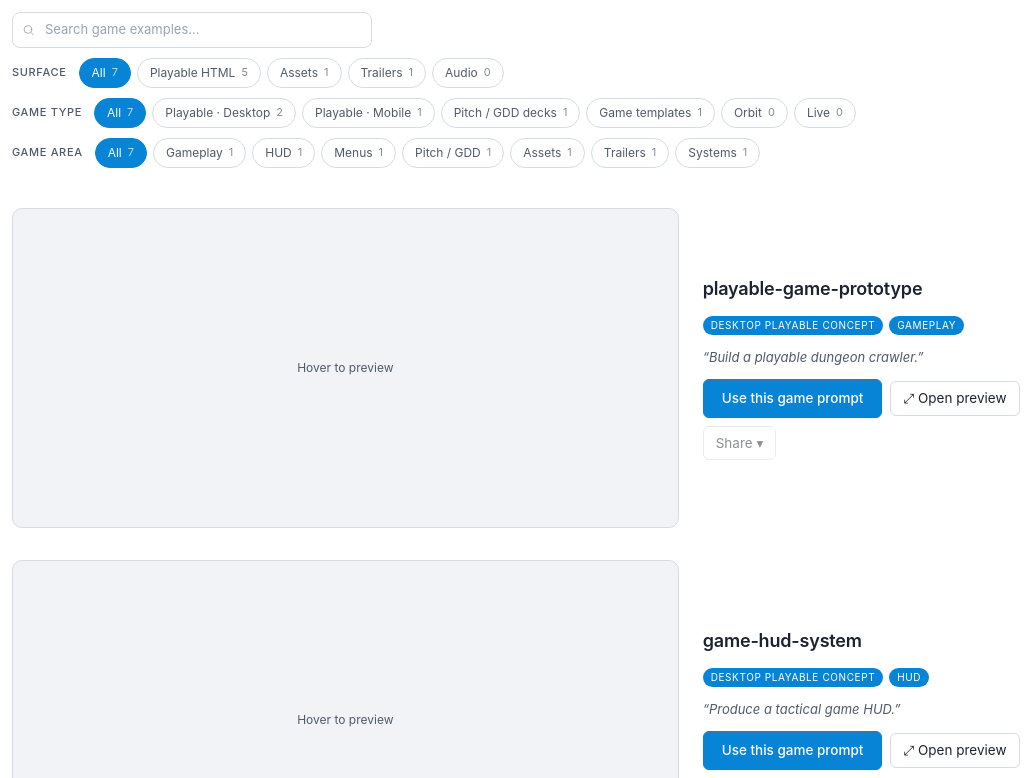
ExamplesTab › narrows by surface, type, and scenario filter pills
Click the tab named "Assets1" at (304, 72), box [267,58,342,88]
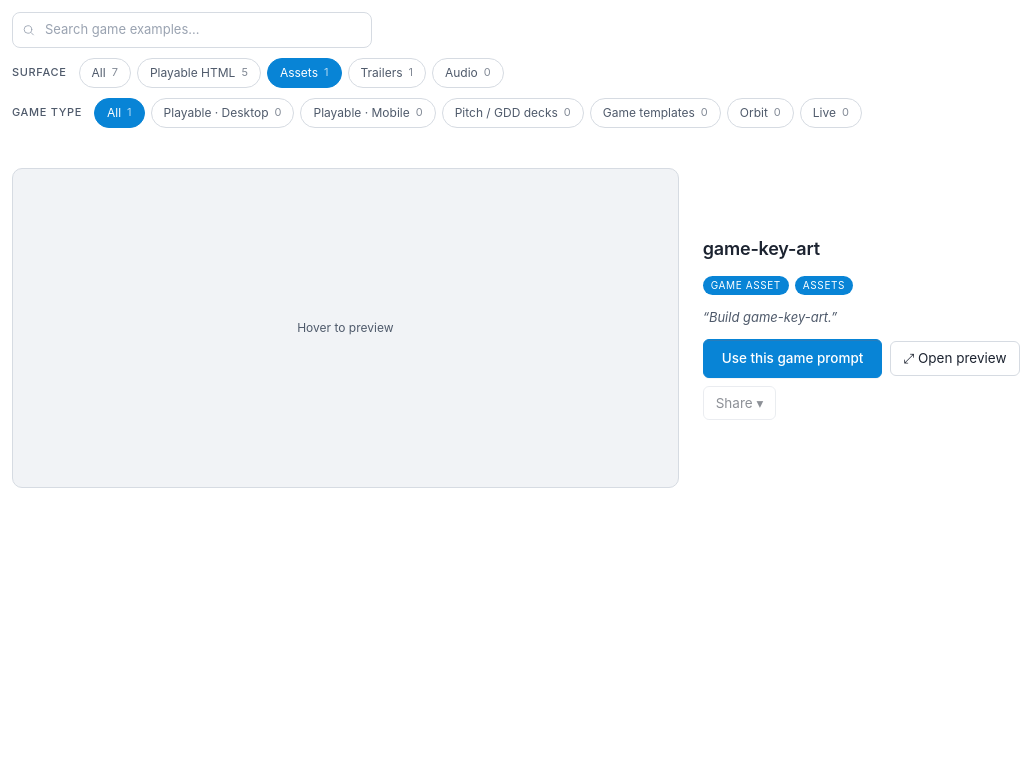
Expected: the element with test id "example-card-game-key-art" is shown, [12,168,1035,488]
Expected: the element with test id "example-card-playable-game-prototype" is gone
Click the tab named "All7" at (105, 72), box [79,58,131,88]
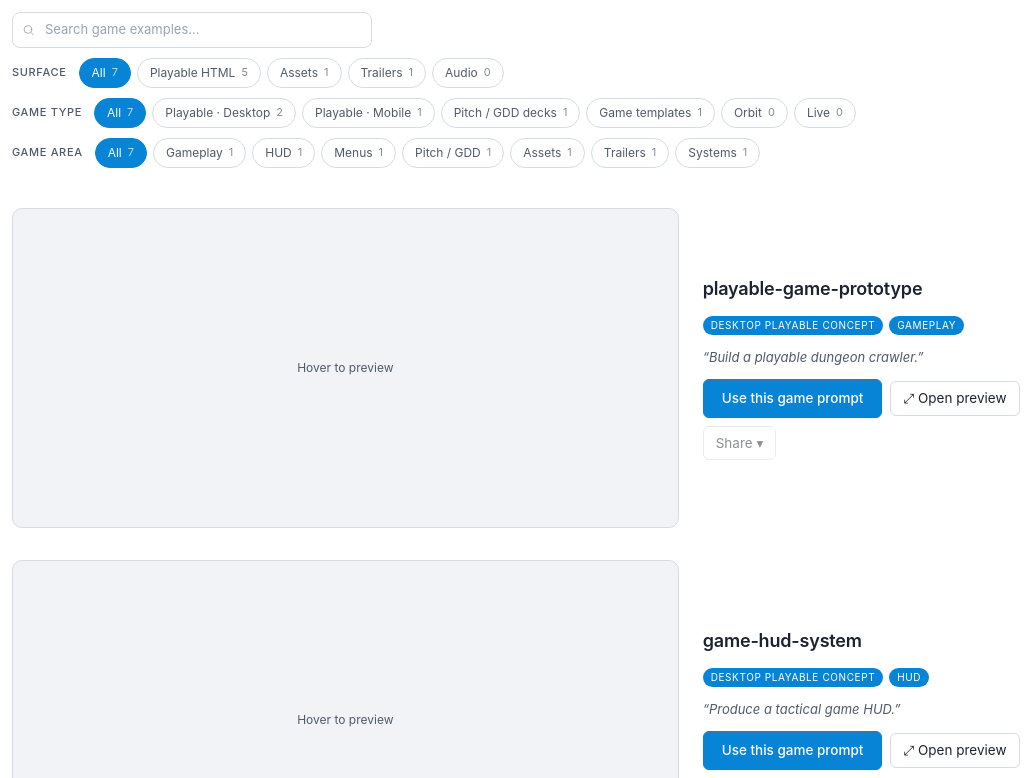
Click the tab named "Playable · Mobile1" at (368, 112), box [302,98,435,128]
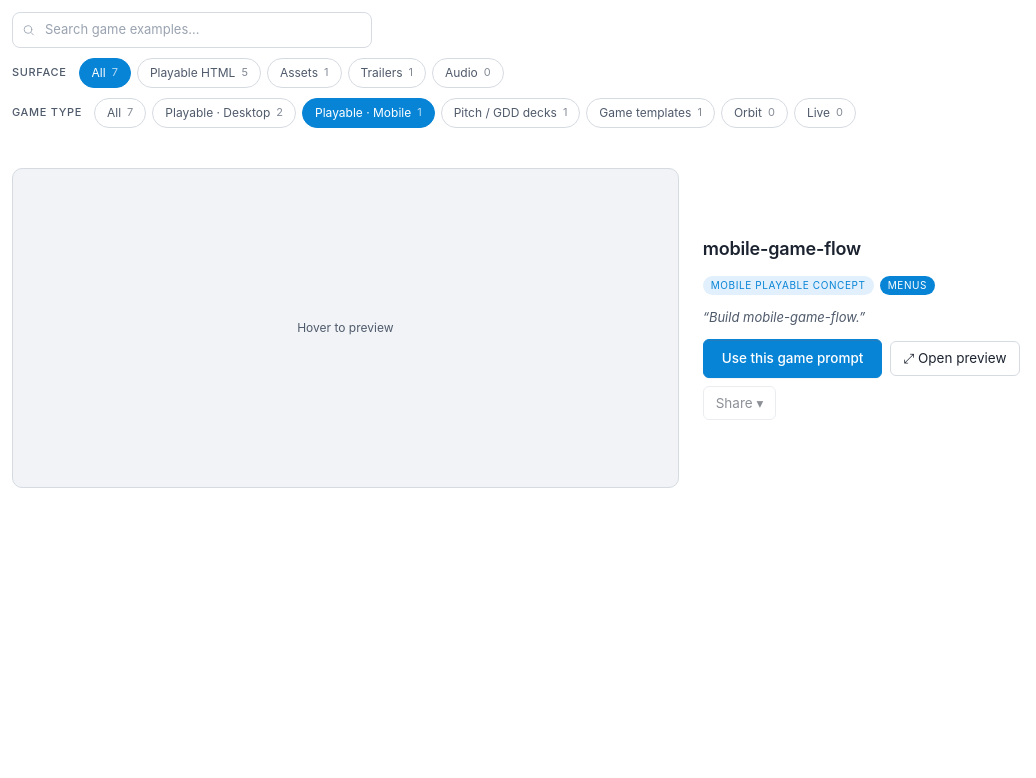
Expected: the element with test id "example-card-mobile-game-flow" is shown, [12,168,1035,488]
Expected: the element with test id "example-card-playable-game-prototype" is gone
Click the tab named "All7" at (120, 112), box [94,98,146,128]
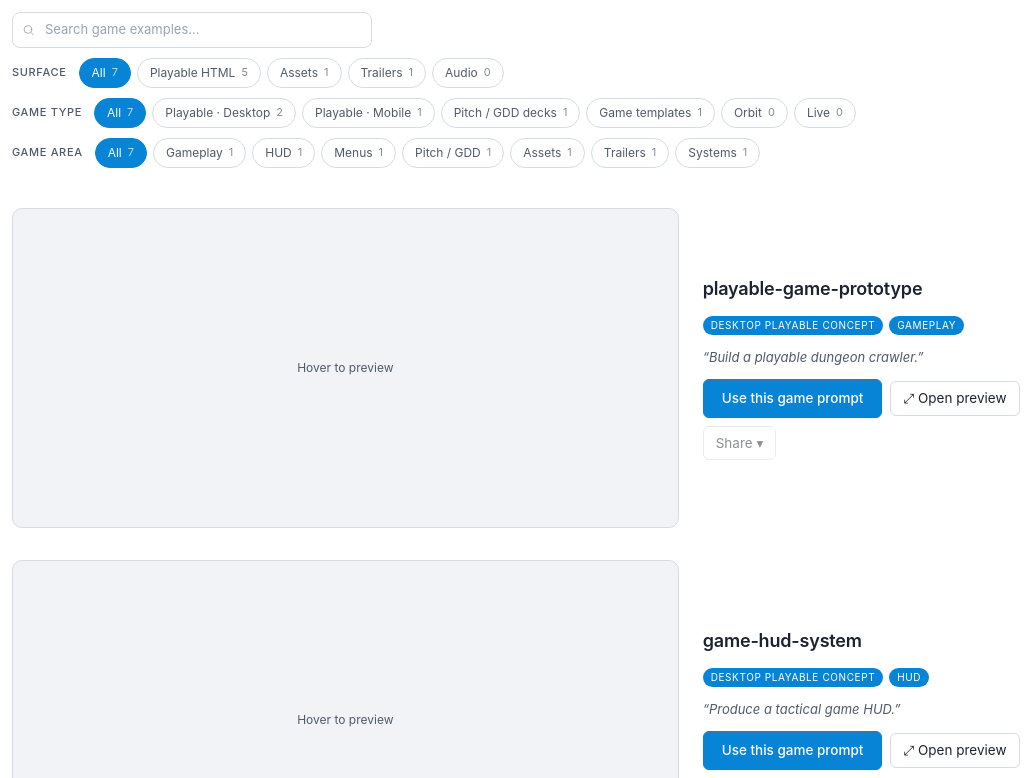
Click the button named "HUD1" at (284, 152), box [252,138,315,168]
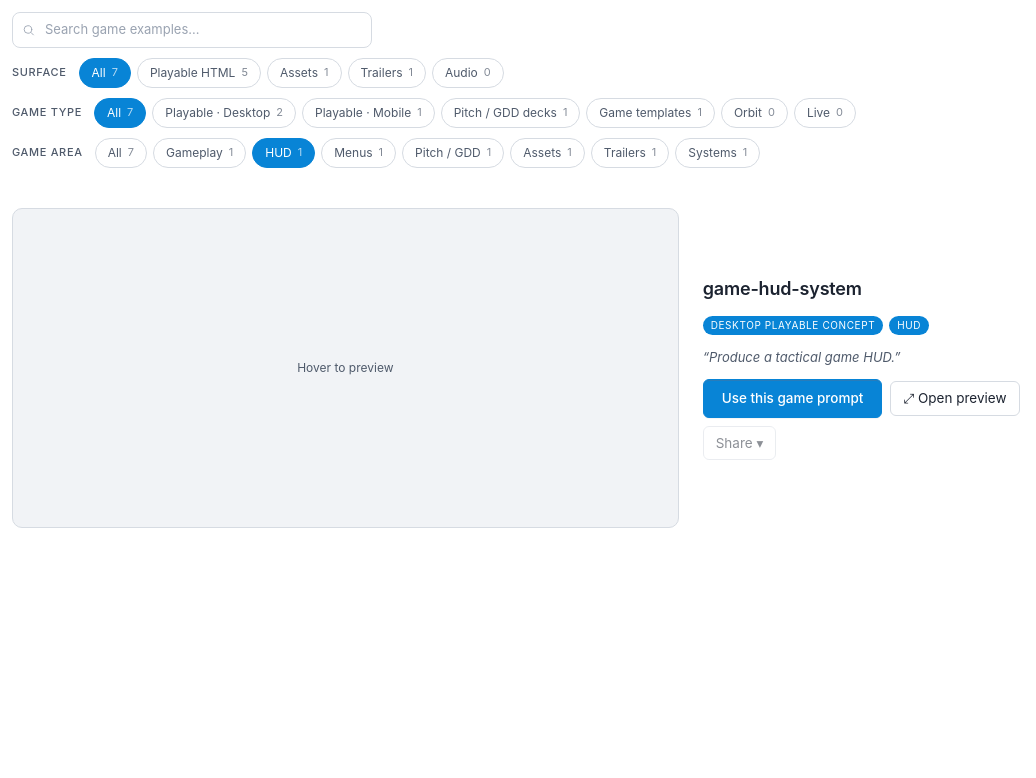
Expected: the element with test id "example-card-game-hud-system" is shown, [12,208,1035,528]
Expected: the element with test id "example-card-playable-game-prototype" is gone
